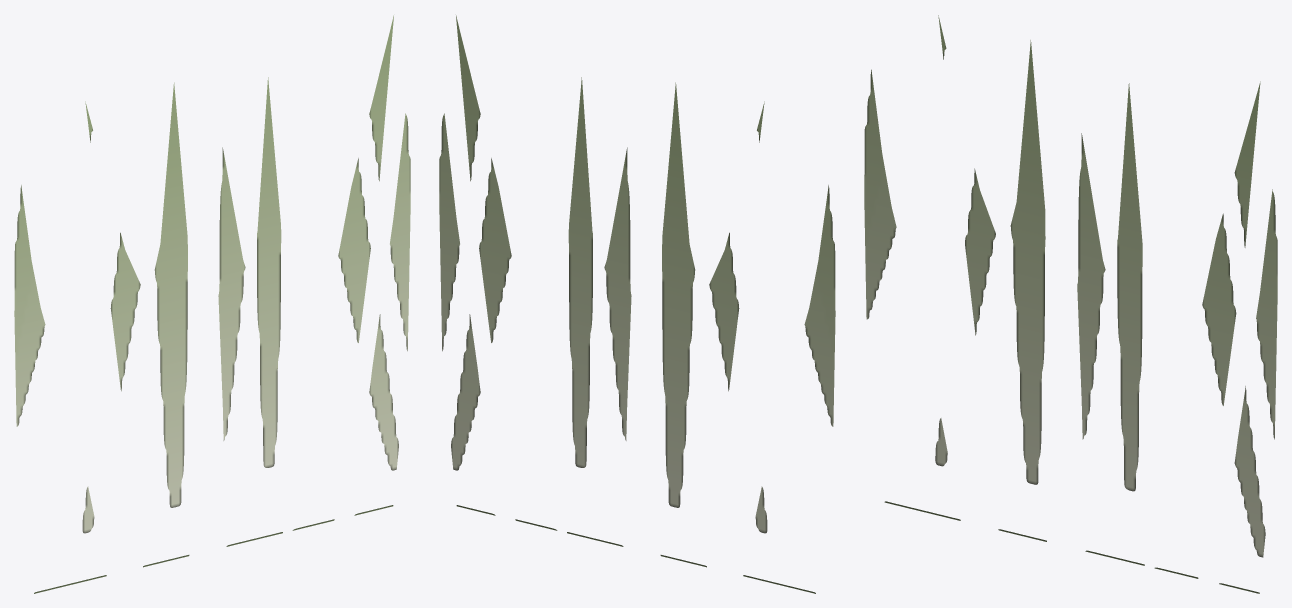
Rendered from cutout_grass.glb.
3 renders of one model, left to right at view 1: azimuth 30°, elevation 25°; view 2: azimuth 150°, elevation 25°; view 3: azimuth 330°, elevation 25°, orthographic. The views are drawn at different scales.
Visible parts, largest first — view 1: CutoutGrassCard; view 2: CutoutGrassCard; view 3: CutoutGrassCard.
Boxes of the visible parts, x1,y1,x2,y2 form: CutoutGrassCard: (14,15,410,593); CutoutGrassCard: (439,15,835,593); CutoutGrassCard: (864,15,1277,593).
Bounding box in the file's own units: 0.7456 × 0.8852 × 0.
Materials: 1 (1 with a texture image).
